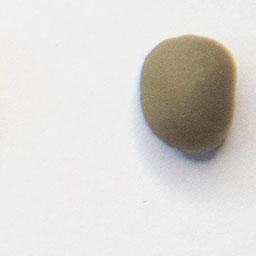peaberry: (134, 32, 242, 157)
